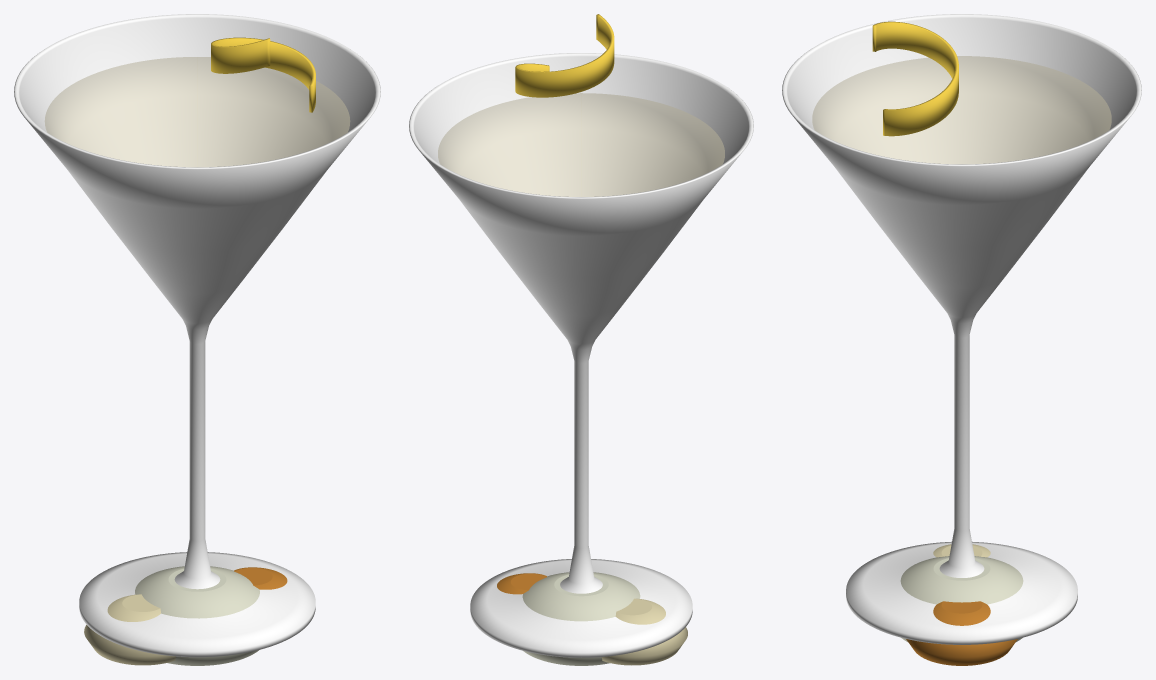
Rendered from atlas-martini.glb.
3 renders of one model, left to right at view 1: azimuth 30°, elevation 25°; view 2: azimuth 150°, elevation 25°; view 3: azimuth 270°, elevation 25°, orthographic. The views are drawn at different scales.
Parts seen in each view (by area): view 1: glass, liquid, recipe_spirit, garnish_lemon_twist, recipe_champagne_vinegar, recipe_orange_bitters; view 2: glass, liquid, recipe_spirit, garnish_lemon_twist, recipe_champagne_vinegar, recipe_orange_bitters; view 3: glass, liquid, garnish_lemon_twist, recipe_spirit, recipe_orange_bitters.
Part boxes in pixels (x1,y1,x2,y2): glass: (14, 14, 380, 657); liquid: (45, 57, 349, 167); recipe_spirit: (135, 566, 259, 665); garnish_lemon_twist: (211, 37, 315, 112); recipe_champagne_vinegar: (84, 594, 175, 665); recipe_orange_bitters: (234, 567, 287, 589); glass: (409, 53, 753, 657); liquid: (438, 93, 724, 196); recipe_spirit: (522, 572, 640, 665); garnish_lemon_twist: (515, 14, 614, 97); recipe_champagne_vinegar: (601, 598, 687, 665); recipe_orange_bitters: (497, 573, 546, 594); glass: (782, 14, 1141, 644); liquid: (812, 56, 1111, 163); garnish_lemon_twist: (872, 21, 958, 136); recipe_spirit: (900, 556, 1023, 641); recipe_orange_bitters: (906, 601, 1017, 665).
Bounding box in the file's own units: 1.52 × 2.9 × 1.52.
